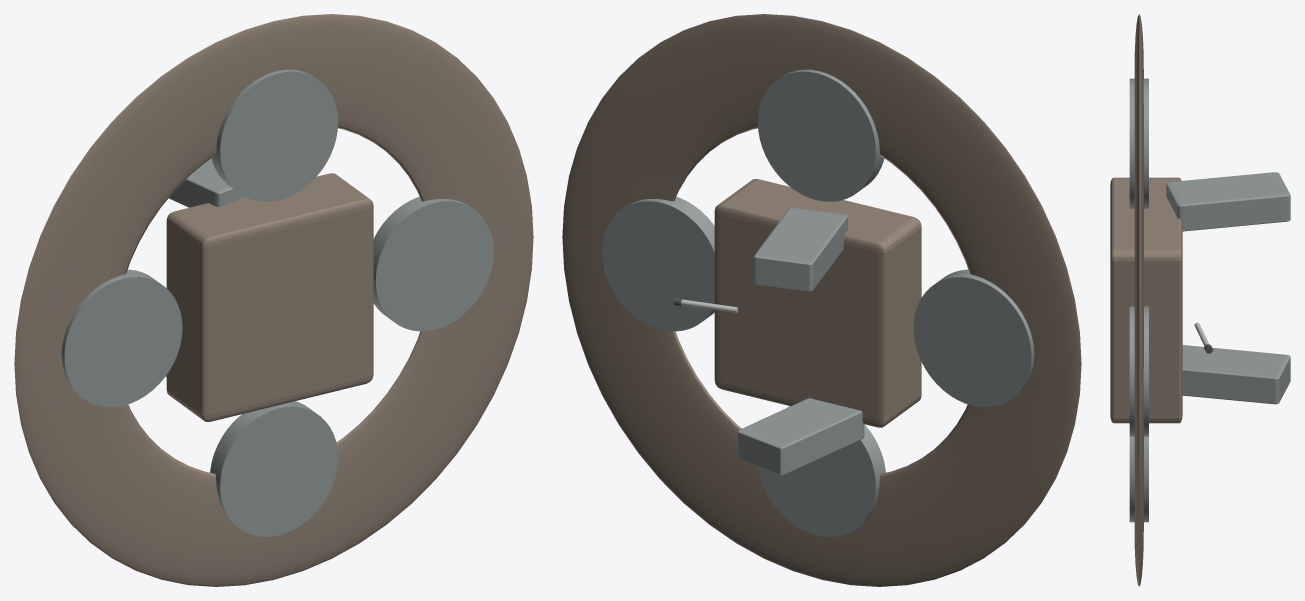
The model's file is d-u28-dominion-repair-drone-lod1.glb.
3 views of the same model, side by side, from view 1: azimuth 30°, elevation 25°; view 2: azimuth 150°, elevation 25°; view 3: azimuth 270°, elevation 25° (orthographic). The views are drawn at different scales.
Visible parts, largest first — view 1: drone_ring, drone_core, drone_fan_3, drone_fan_0, drone_fan_1, drone_fan_2, service_claw_1; view 2: drone_ring, drone_core, drone_fan_1, drone_fan_2, drone_fan_0, drone_fan_3, service_claw_-1, service_claw_1; view 3: drone_core, service_claw_1, drone_ring, service_claw_-1, drone_fan_0, drone_fan_1, drone_fan_3.
Boxes of the visible parts, x1,y1,x2,y2 form: drone_ring: (14, 14, 533, 586); drone_core: (166, 173, 373, 421); drone_fan_3: (210, 401, 338, 536); drone_fan_0: (373, 197, 493, 331); drone_fan_1: (211, 69, 338, 201); drone_fan_2: (61, 269, 182, 407); service_claw_1: (169, 158, 245, 207); drone_ring: (562, 14, 1081, 586); drone_core: (714, 179, 921, 427); drone_fan_1: (757, 69, 884, 201); drone_fan_2: (913, 269, 1034, 407); drone_fan_0: (602, 197, 714, 331); drone_fan_3: (758, 406, 885, 536); service_claw_-1: (737, 398, 864, 475); service_claw_1: (754, 207, 847, 291); drone_core: (1110, 177, 1182, 423); service_claw_1: (1166, 172, 1290, 231); drone_ring: (1134, 14, 1143, 586); service_claw_-1: (1182, 345, 1290, 404); drone_fan_0: (1129, 306, 1148, 436); drone_fan_1: (1129, 78, 1148, 208); drone_fan_3: (1129, 436, 1148, 522).
Size of what is drawn, in the model's own units: 5.89 by 6.06 by 1.9.
